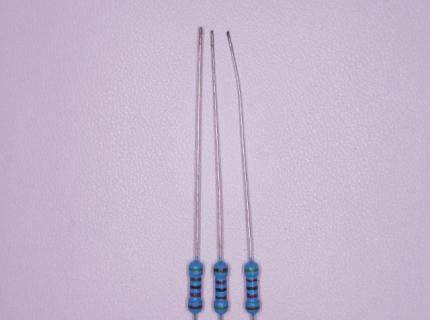Black band: (246, 286, 258, 290), (190, 285, 201, 289), (216, 288, 226, 292)
Brown band: (213, 268, 228, 273), (188, 305, 202, 309), (246, 306, 260, 310), (215, 296, 227, 300), (190, 277, 201, 281), (246, 279, 257, 283)
Green band: (189, 268, 203, 271), (245, 269, 259, 272), (214, 306, 228, 309)
Red band: (247, 293, 258, 298), (190, 292, 201, 297), (215, 281, 226, 284)
